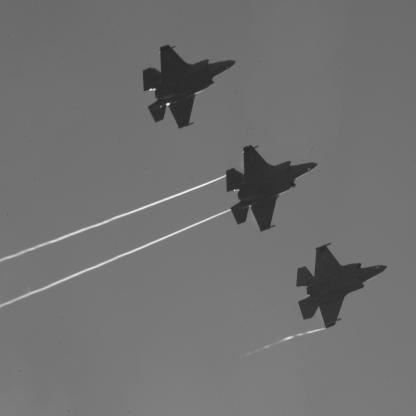F35: (227, 146, 319, 233), (144, 45, 238, 130), (297, 244, 388, 330)
